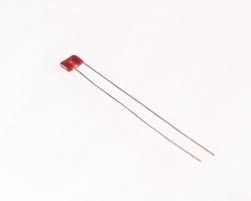ceramic capacitor: (53, 38, 125, 112)
